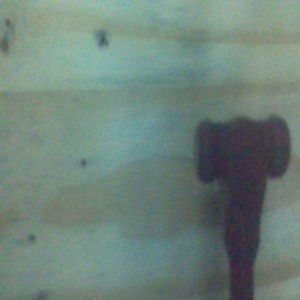palu: (192, 112, 292, 300)
